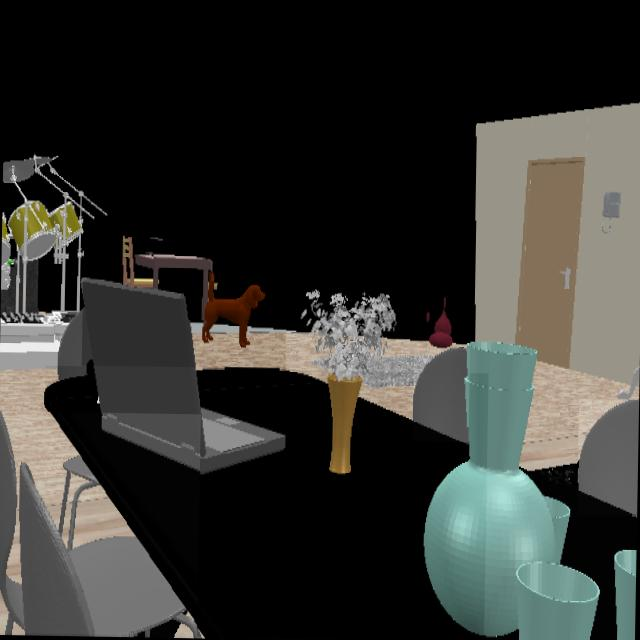chair: (0, 413, 197, 634), (577, 400, 639, 515), (413, 347, 468, 441), (123, 235, 153, 288)
laptop: (83, 279, 284, 471)
table: (45, 370, 483, 640), (136, 253, 210, 320)
